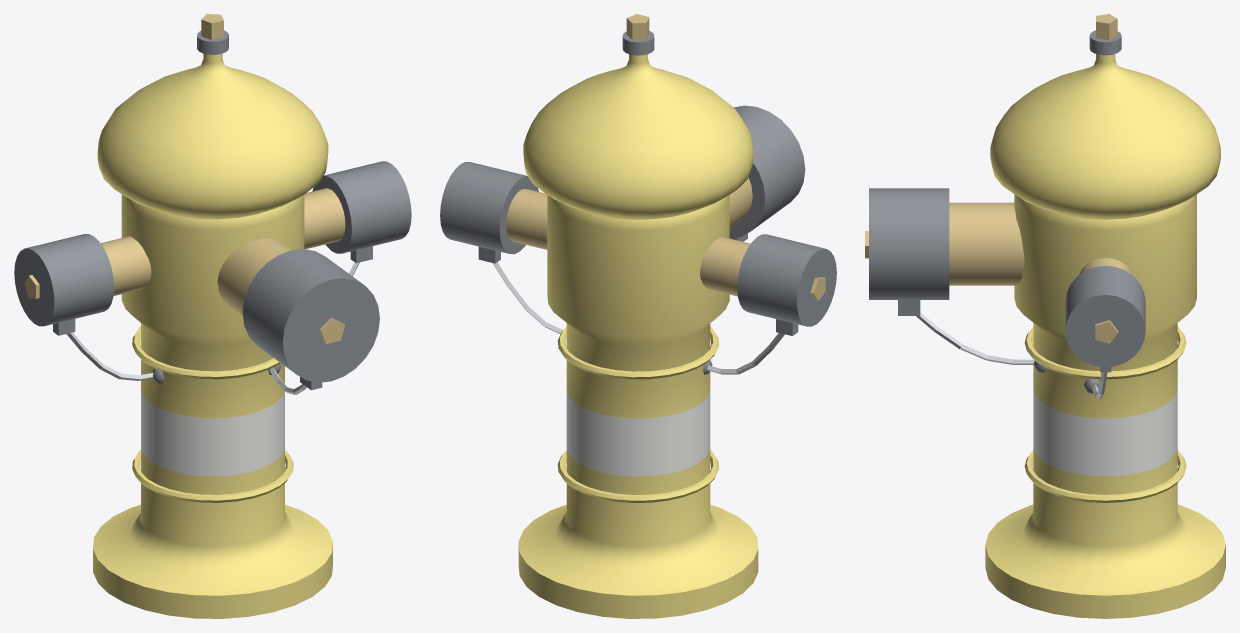
Rendered from FireHydrant_Yellow.fbx.
3 views of the same model, side by side, from view 1: azimuth 30°, elevation 25°; view 2: azimuth 150°, elevation 25°; view 3: azimuth 270°, elevation 25° (orthographic).
Parts seen in each view (by area): view 1: LOD0; view 2: LOD0; view 3: LOD0.
Boxes of the visible parts, x1=… form: LOD0: x1=14, y1=14, x2=411, y2=618; LOD0: x1=440, y1=14, x2=836, y2=618; LOD0: x1=865, y1=14, x2=1225, y2=618.
Size of what is drawn, in the model's own units: 52.4 by 75.6 by 45.
